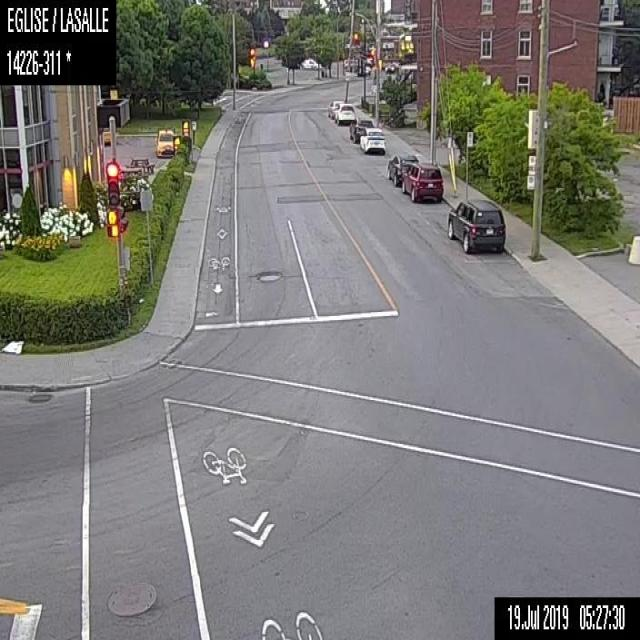vehicle: (446, 195, 508, 252), (400, 160, 446, 201), (385, 151, 420, 186), (347, 115, 374, 143), (358, 126, 386, 152), (154, 125, 176, 155), (334, 102, 356, 125), (327, 98, 345, 120), (301, 57, 322, 70), (383, 61, 399, 72)
